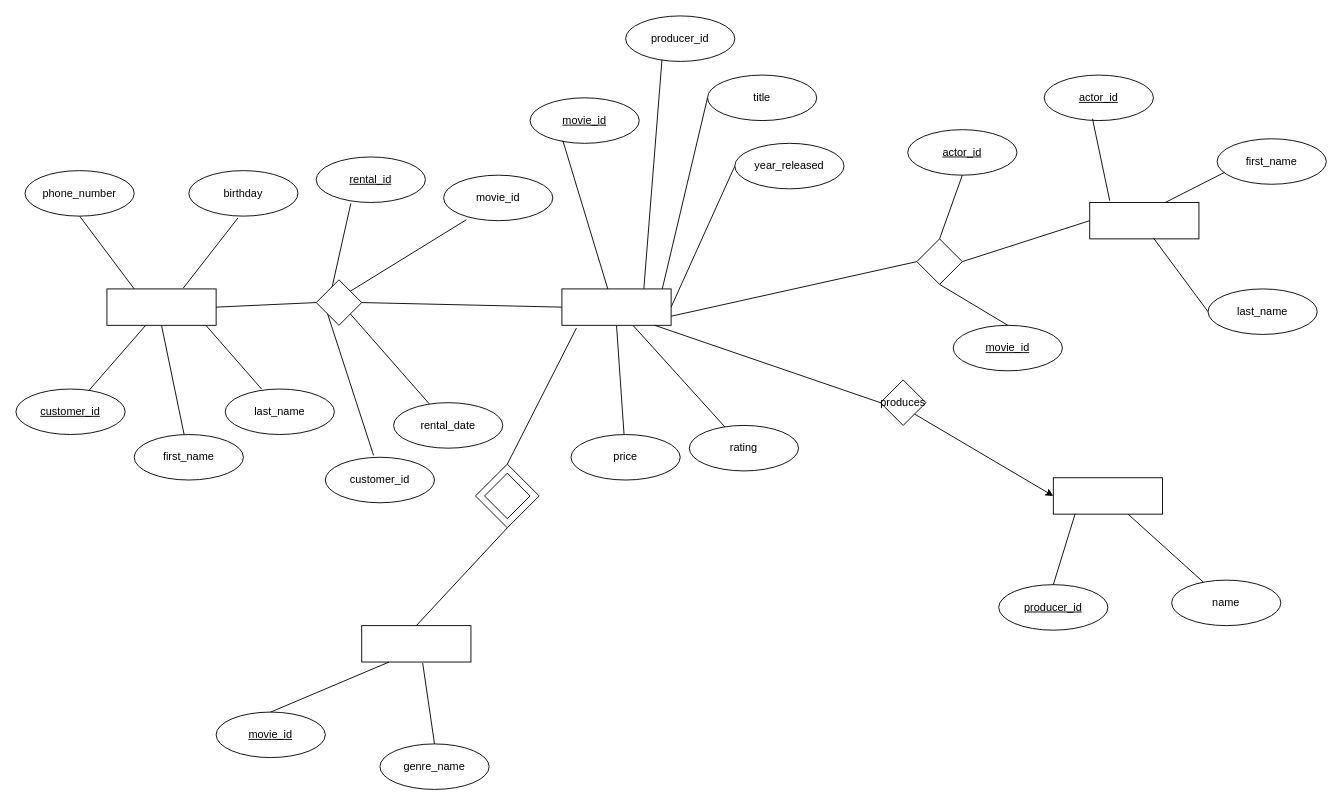
Image size: 1342x805. Some labels were removed from this diagram. Each missing label, with the centre of its shape:
Actor: the point at 1144,220
acts: the point at 939,261
Customer: the point at 161,306
Genre: the point at 416,643
has a: the point at 507,495
Movie: the point at 616,306
Producer: the point at 1107,495
rents: the point at 338,302
